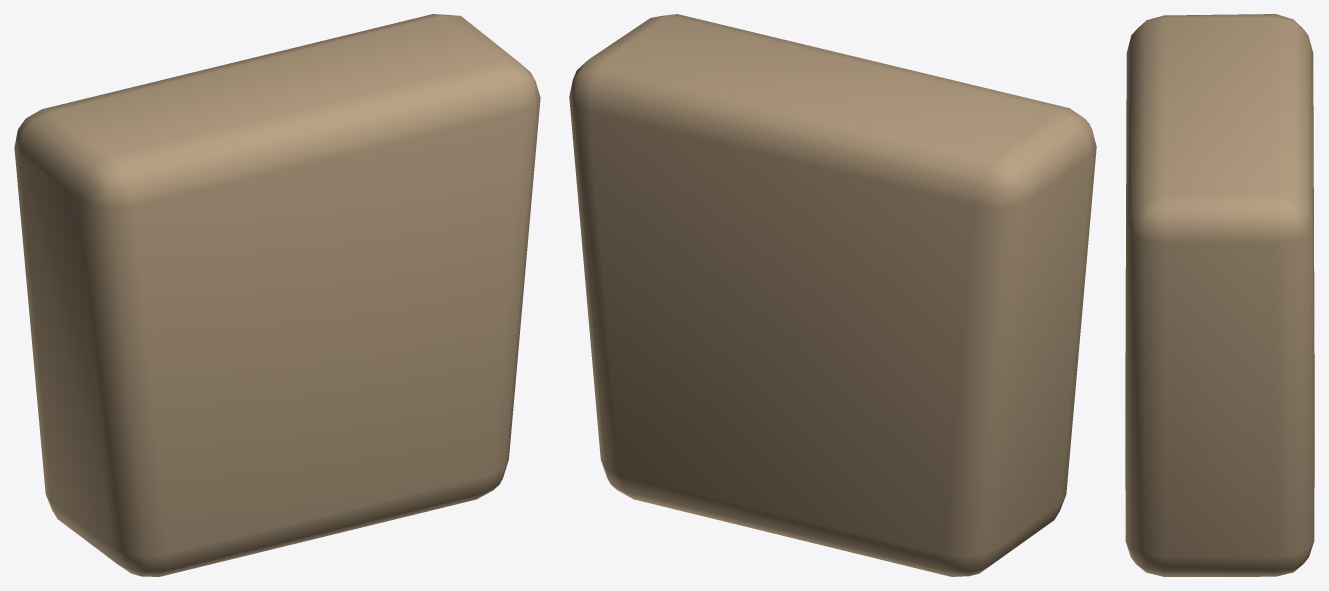
File: SCHLUSSSTEIN_R12.glb
3 renders of one model, left to right at view 1: azimuth 30°, elevation 25°; view 2: azimuth 150°, elevation 25°; view 3: azimuth 270°, elevation 25°, orthographic. The views are drawn at different scales.
Visible parts, largest first — view 1: SCHLUSSSTEIN_R12; view 2: SCHLUSSSTEIN_R12; view 3: SCHLUSSSTEIN_R12.
Boxes of the visible parts, box(x1,y1,x2,y2) form: SCHLUSSSTEIN_R12: box(14, 14, 540, 576); SCHLUSSSTEIN_R12: box(569, 14, 1096, 576); SCHLUSSSTEIN_R12: box(1125, 14, 1314, 576).
Size of the model in its own units: 2.61 by 2.34 by 1.02.
